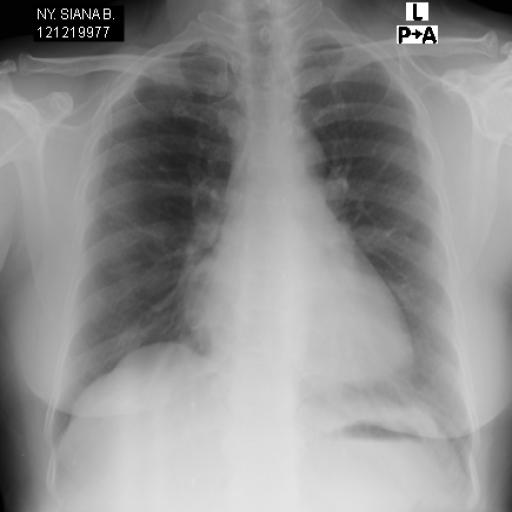kardiomegali: (38, 32, 483, 488)
